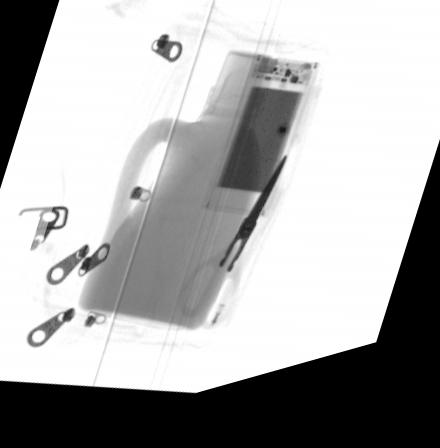Powerbank: (201, 64, 321, 232)
Scissors: (182, 164, 292, 341)
